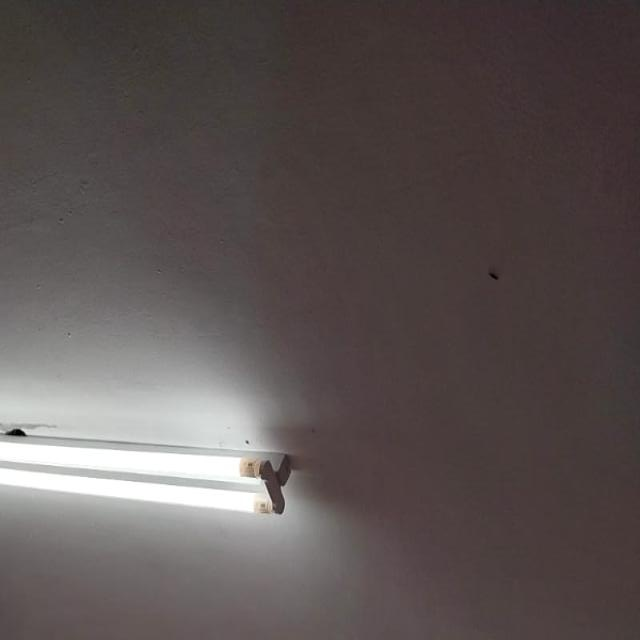fluorescent tube: (0, 391, 328, 554)
